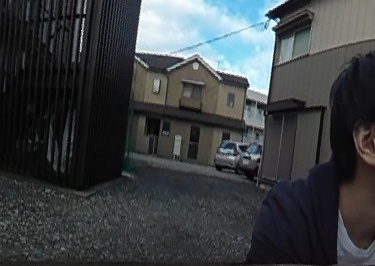person: (251, 53, 375, 266)
